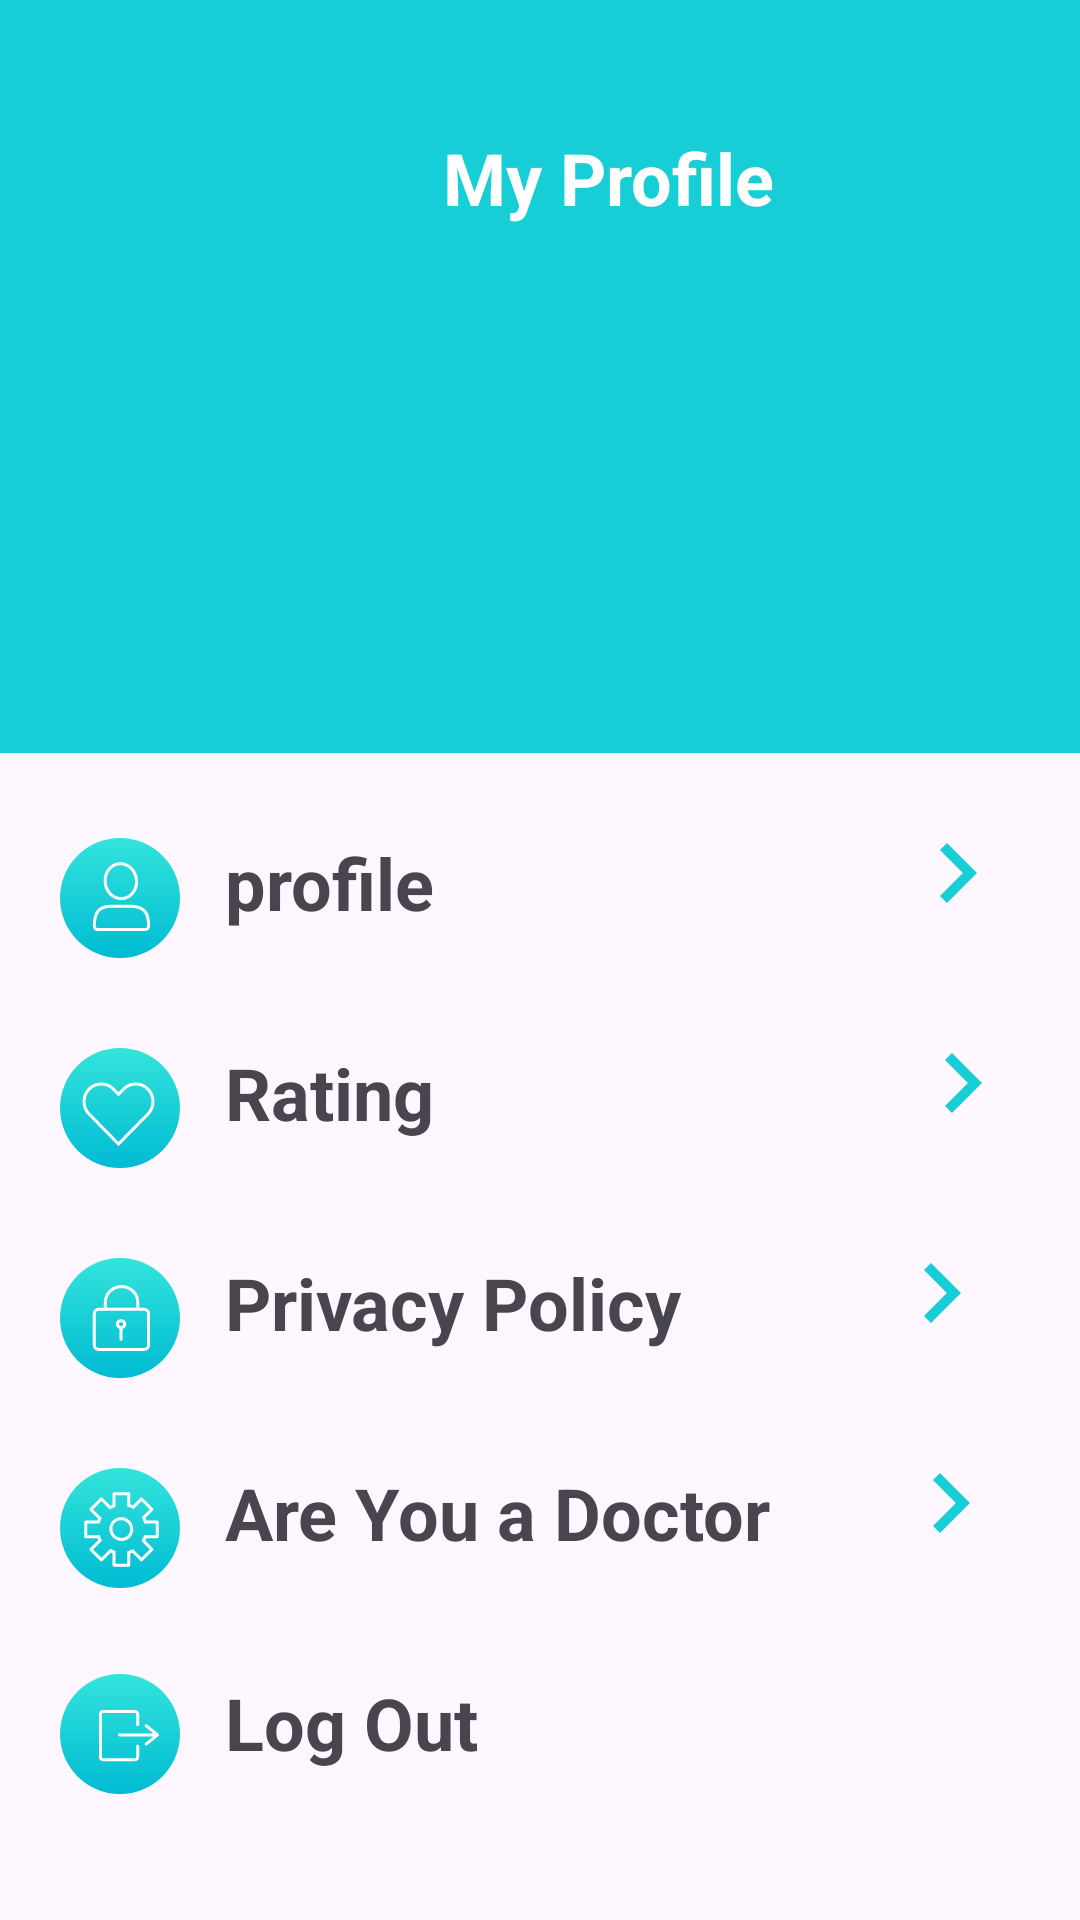

Locate icon controls on the screen. Image size 1080px×1920px, boxes as (x1, y1, x2, y2).
keyboard arrow right: (940, 843, 977, 903), (945, 1053, 982, 1113), (924, 1263, 961, 1323), (933, 1473, 970, 1533)
